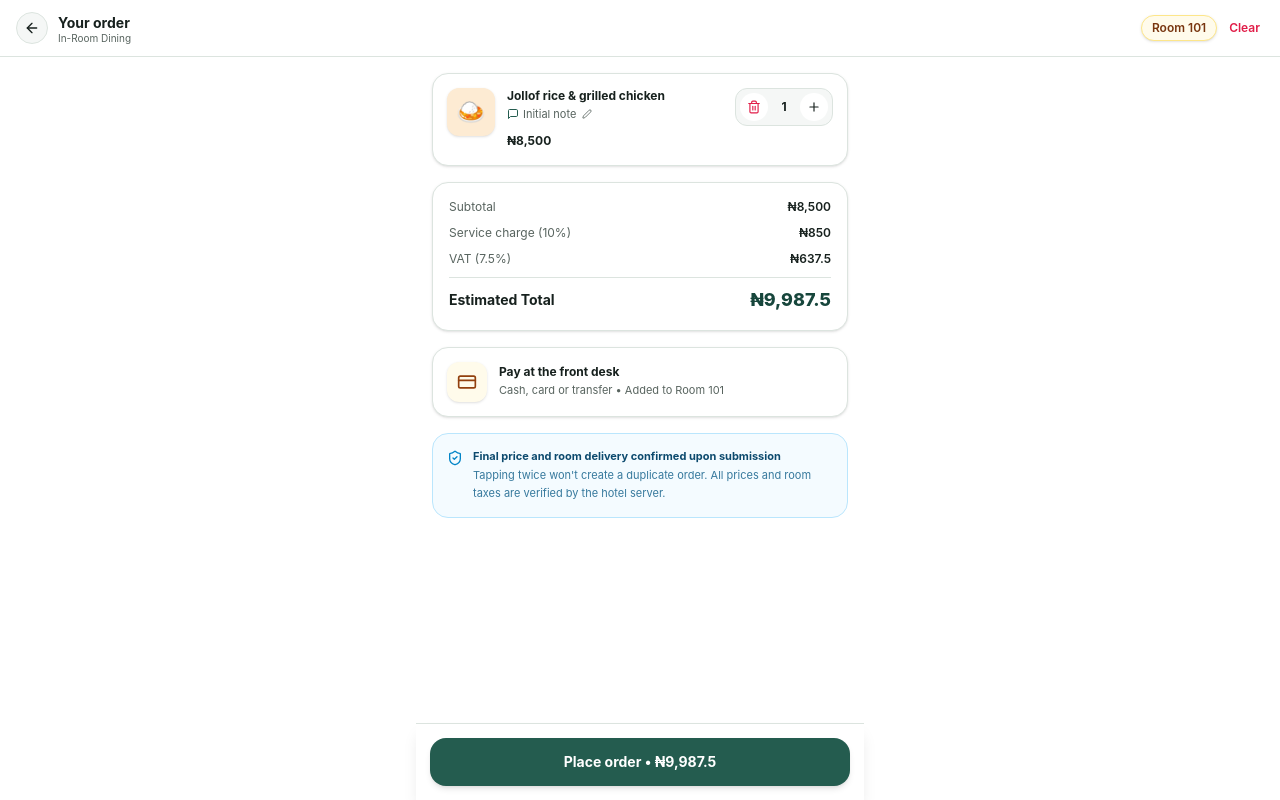
it: CartPage Component Suite › allows editing preparation notes inline within the cart line item
This screenshot has width=1280, height=800.
Expected: the text "Initial note" is shown, top-left (523, 106), bottom-right (576, 122)
Click the button named "edit note for jollof rice & grilled chicken" at [587, 114], box top-left (580, 107), bottom-right (594, 121)
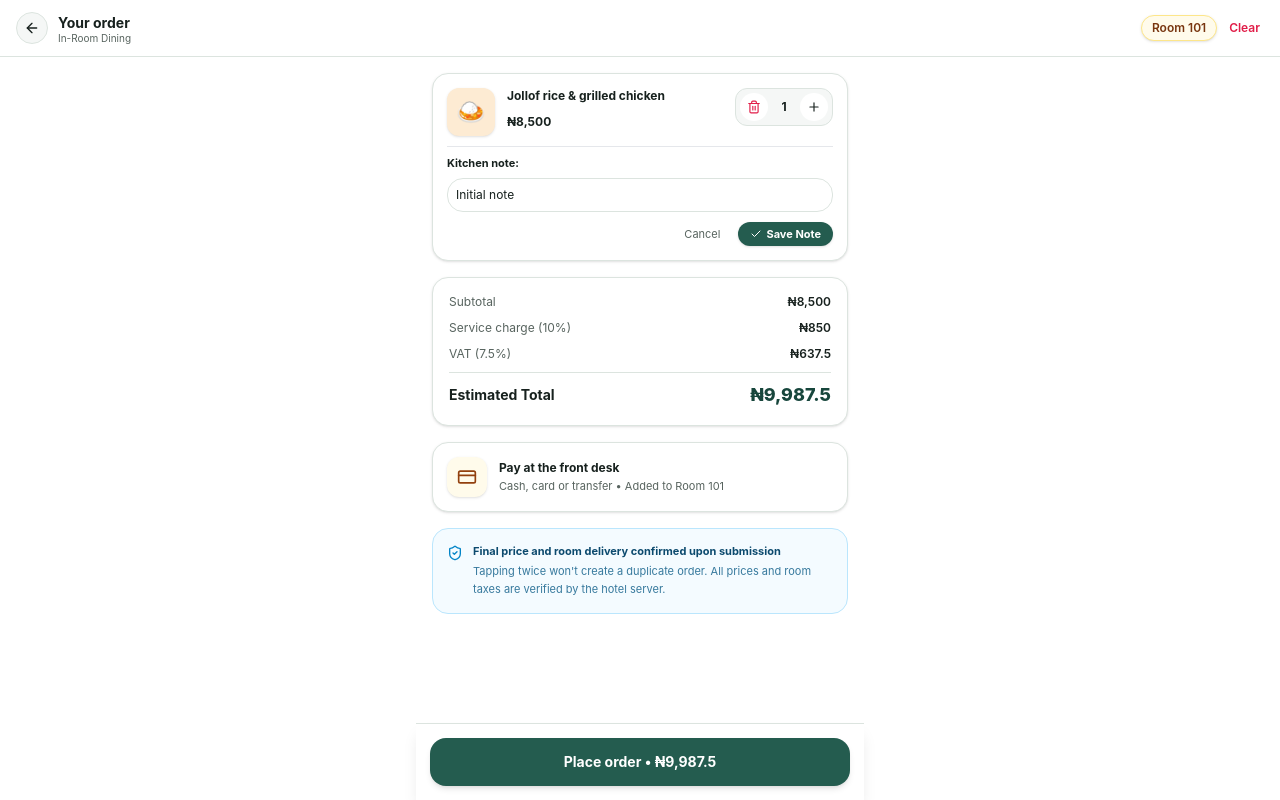
Replace the text in the field labelled "Kitchen note:" with "Modified spicy level 2" at [640, 194], box top-left (447, 178), bottom-right (833, 212)
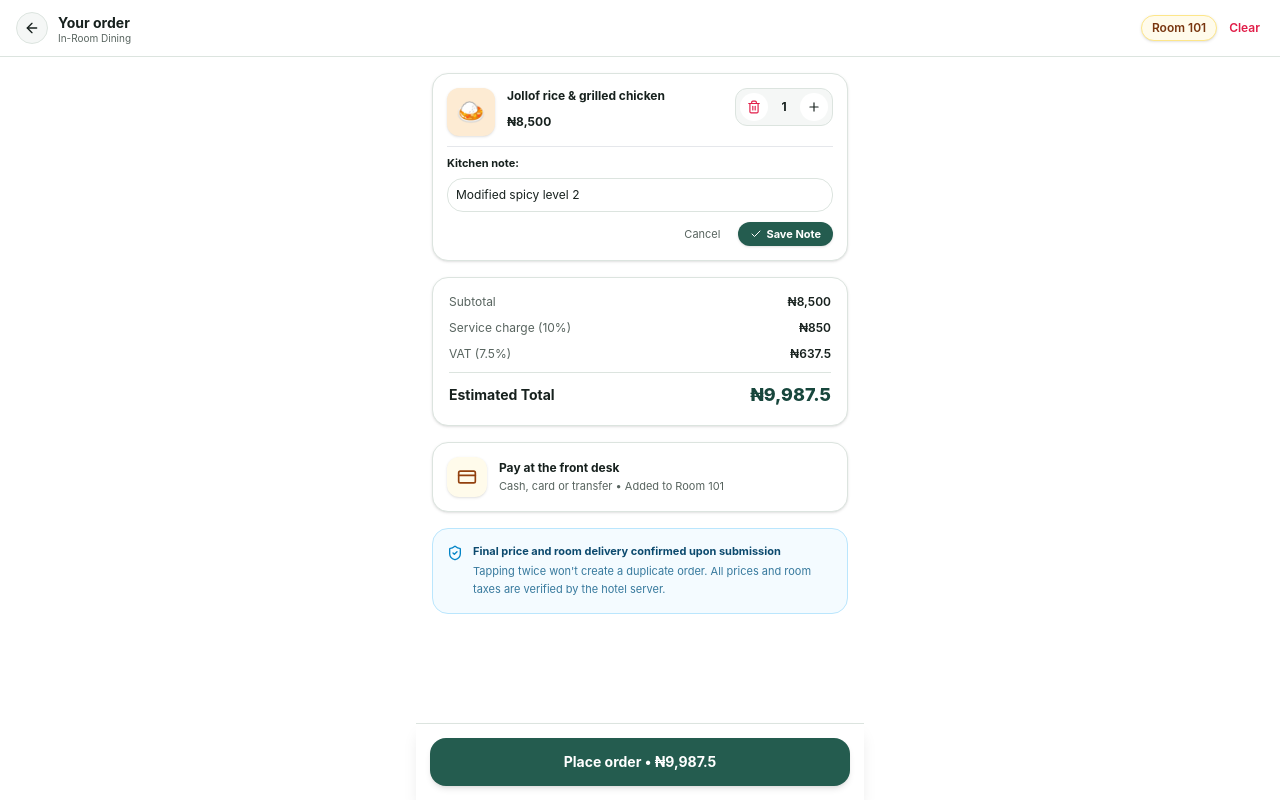
Click the button "Save Note" at [786, 234], box top-left (738, 222), bottom-right (833, 246)
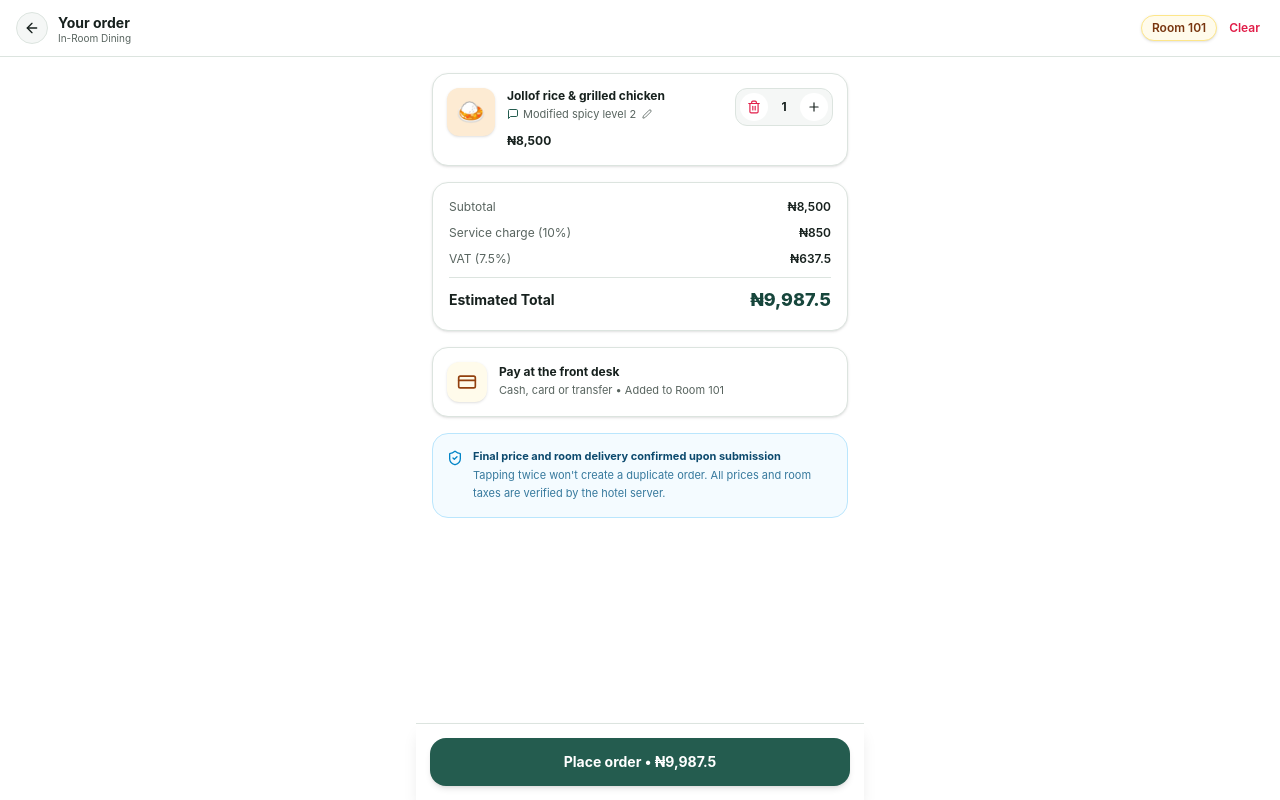
Result: the text "Modified spicy level 2" is shown at top-left (523, 106), bottom-right (636, 122)
